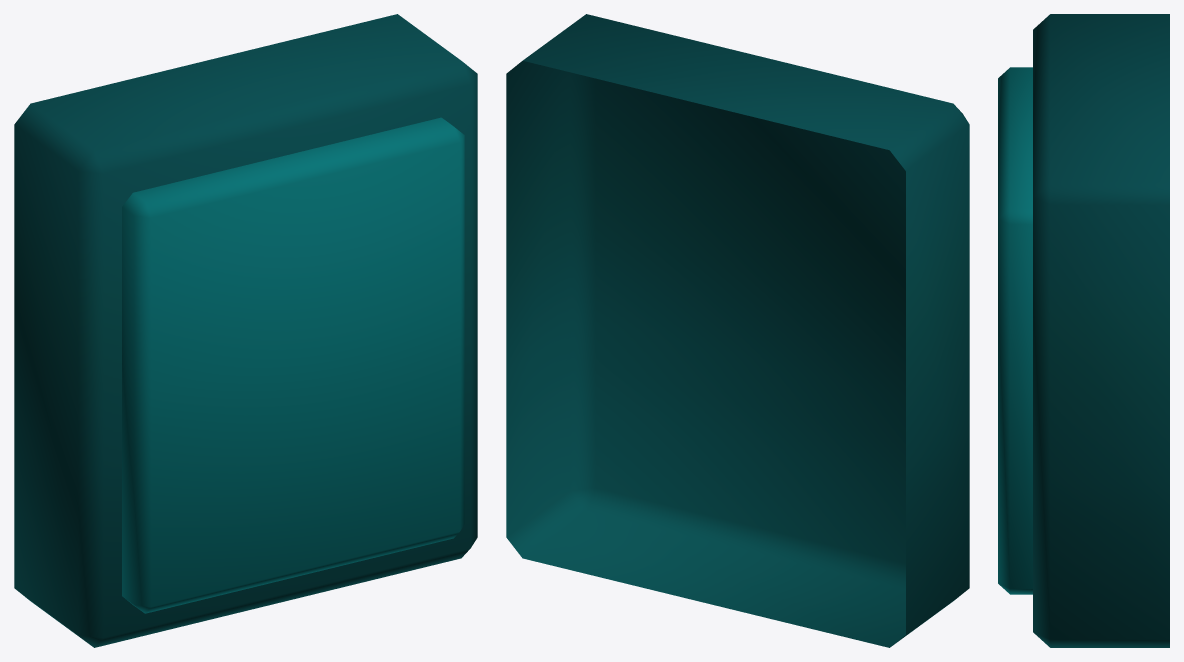
Rendered from ElectricBox_2_A_1.glb.
3 views of the same model, side by side, from view 1: azimuth 30°, elevation 25°; view 2: azimuth 150°, elevation 25°; view 3: azimuth 270°, elevation 25° (orthographic). The views are drawn at different scales.
Parts seen in each view (by area): view 1: ElectricBox_2_A_1; view 2: ElectricBox_2_A_1; view 3: ElectricBox_2_A_1.
Boxes of the visible parts, box(x1,y1,x2,y2) form: ElectricBox_2_A_1: box(14, 14, 477, 647); ElectricBox_2_A_1: box(506, 14, 969, 647); ElectricBox_2_A_1: box(998, 14, 1169, 647).
Bounding box in the file's own units: 0.3815 × 0.4542 × 0.1517.
1 material, 1 textured.
